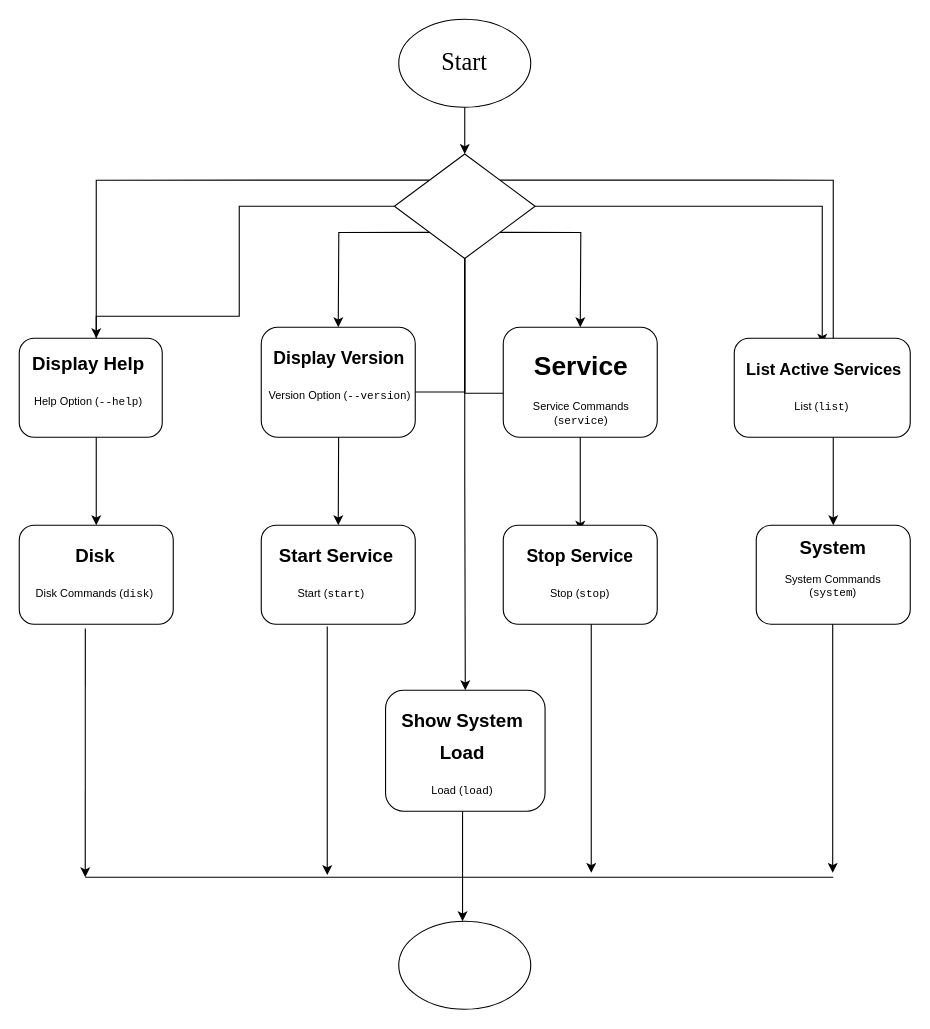
Some shapes in this 930 by 1029 pixel diagram are drawn without their labels. The shapes that lost their labels are listed below. From the top down, each one's box as (x1, y1, x2, y2) in pixels, then its label:
(393, 153, 535, 258): Command?
(398, 920, 531, 1009): End
